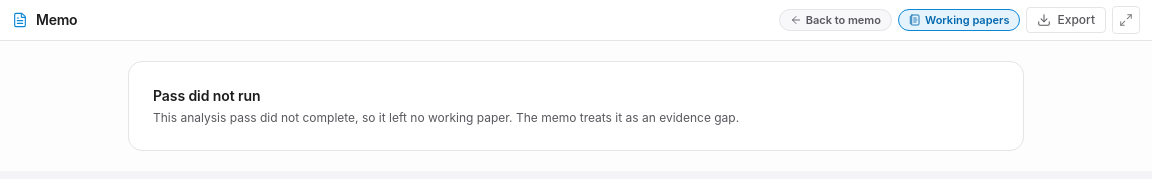
Test case: DocumentViewerWindow navigation › lists a pass the server marks failed as not run, and never fetches its stub
The image size is (1152, 179).
Expected: the element with test id "viewer-paper-not-run" shows "Pass did not run", [153,87,260,104]
Step 1. Click the button with test id "viewer-papers" → {"x": 959, "y": 20}, box [898,9,1020,31]
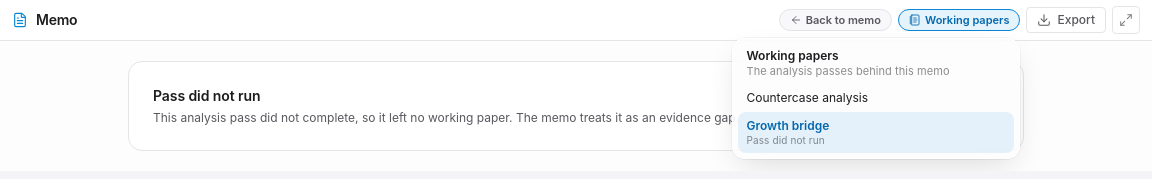
Result: the menu item with test id "viewer-paper-growth_bridge.md" shows "Pass did not run" at [738,112,1014,153]
